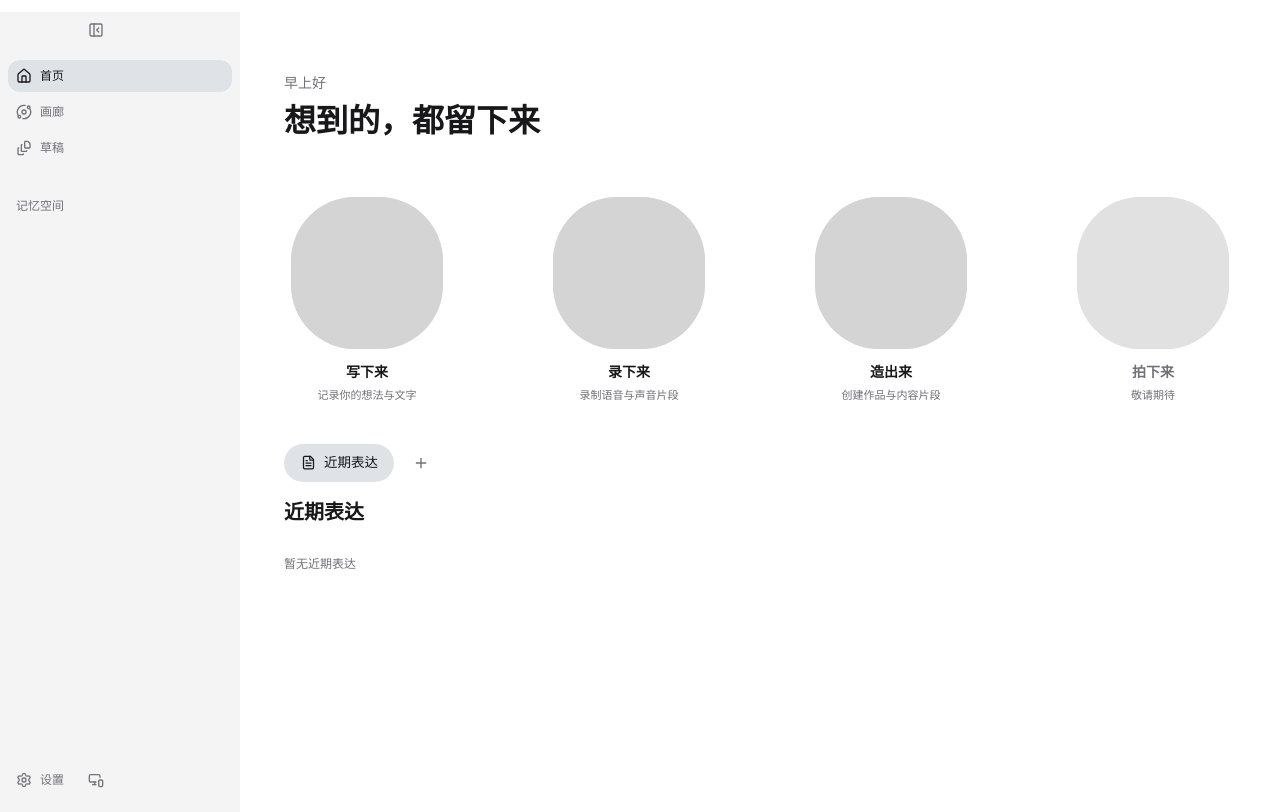
Test: App › switches from voice settings to permission settings in the same settings window
This screenshot has width=1280, height=812.
Click the button "设置" at [40, 780], box [8,764,72,796]
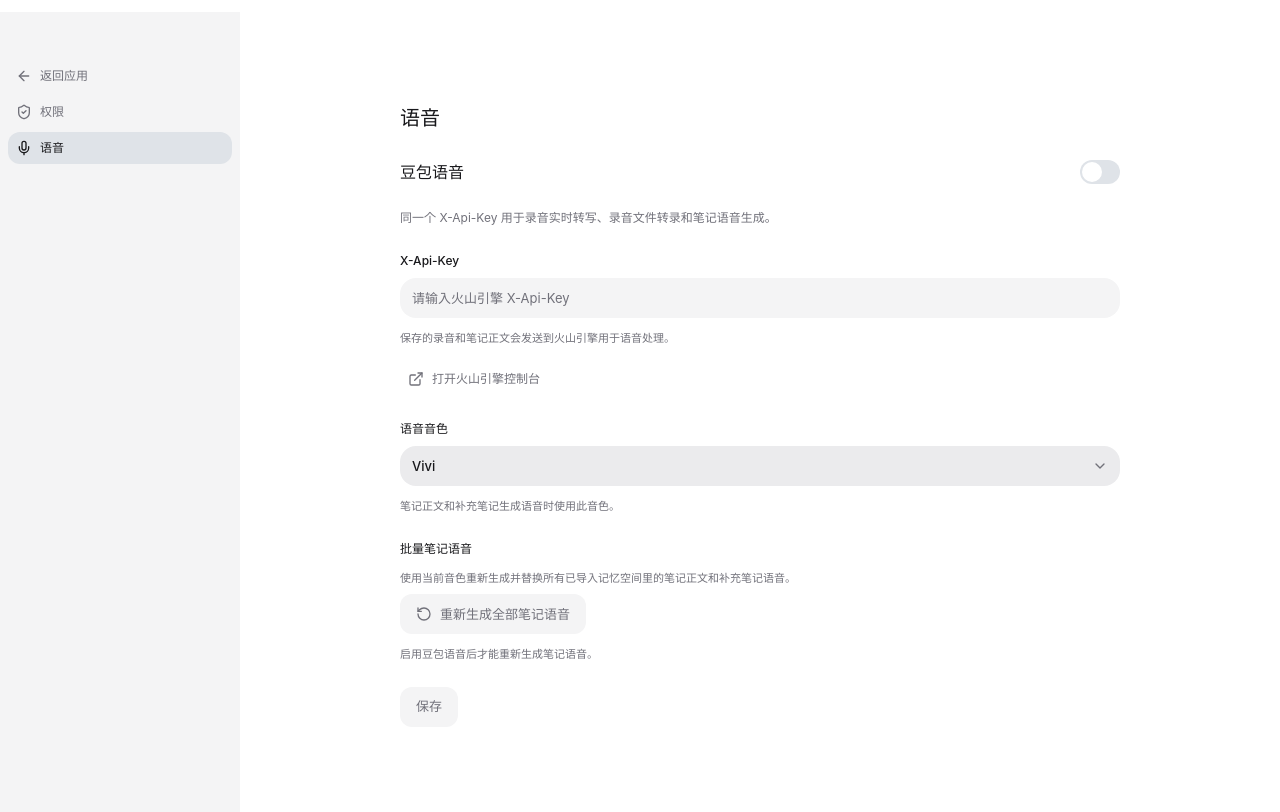
Now the element named "语音设置" is shown, box [400,106,1120,727]
Click the button "权限" at [120, 112], box [8,96,232,128]
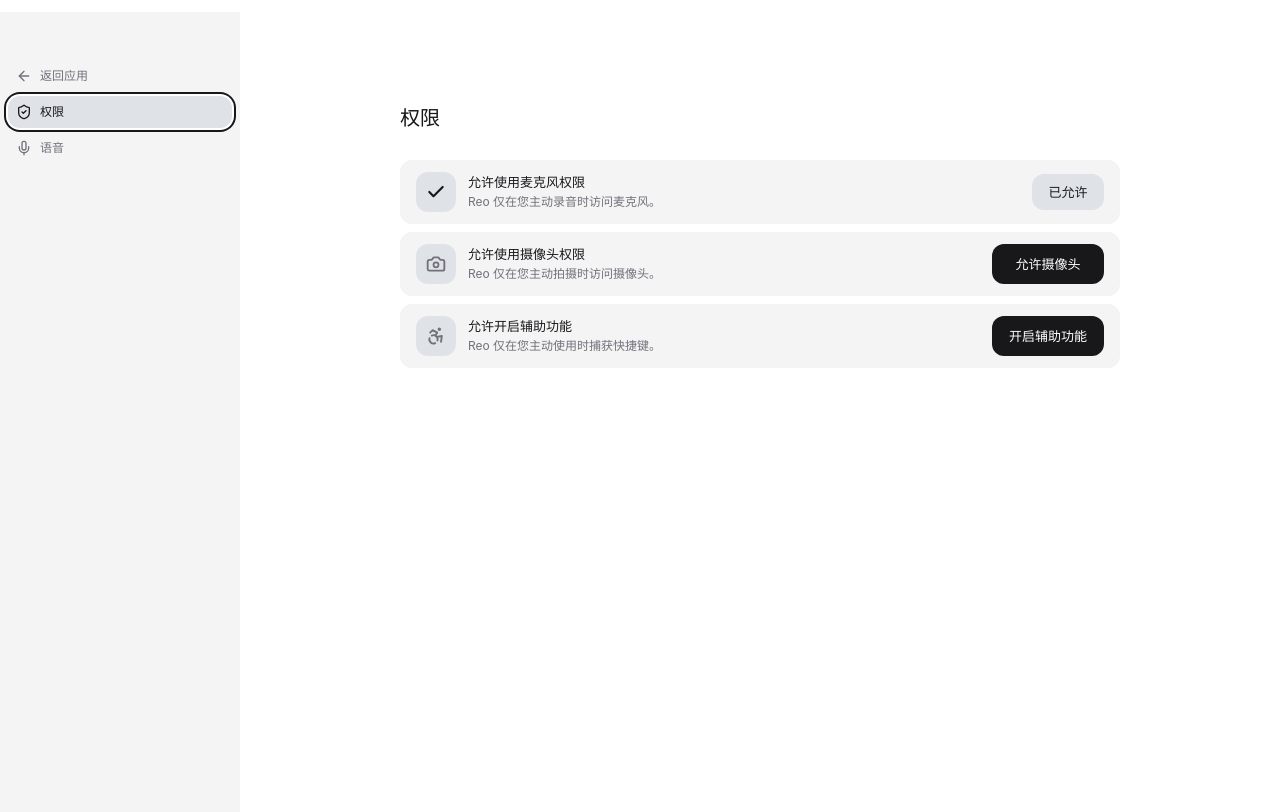
Now the element named "权限设置" is shown, box [400,106,1120,368]
Now the element with test id "permission-settings-row-microphone" shows "麦克风", box [400,160,1120,224]
